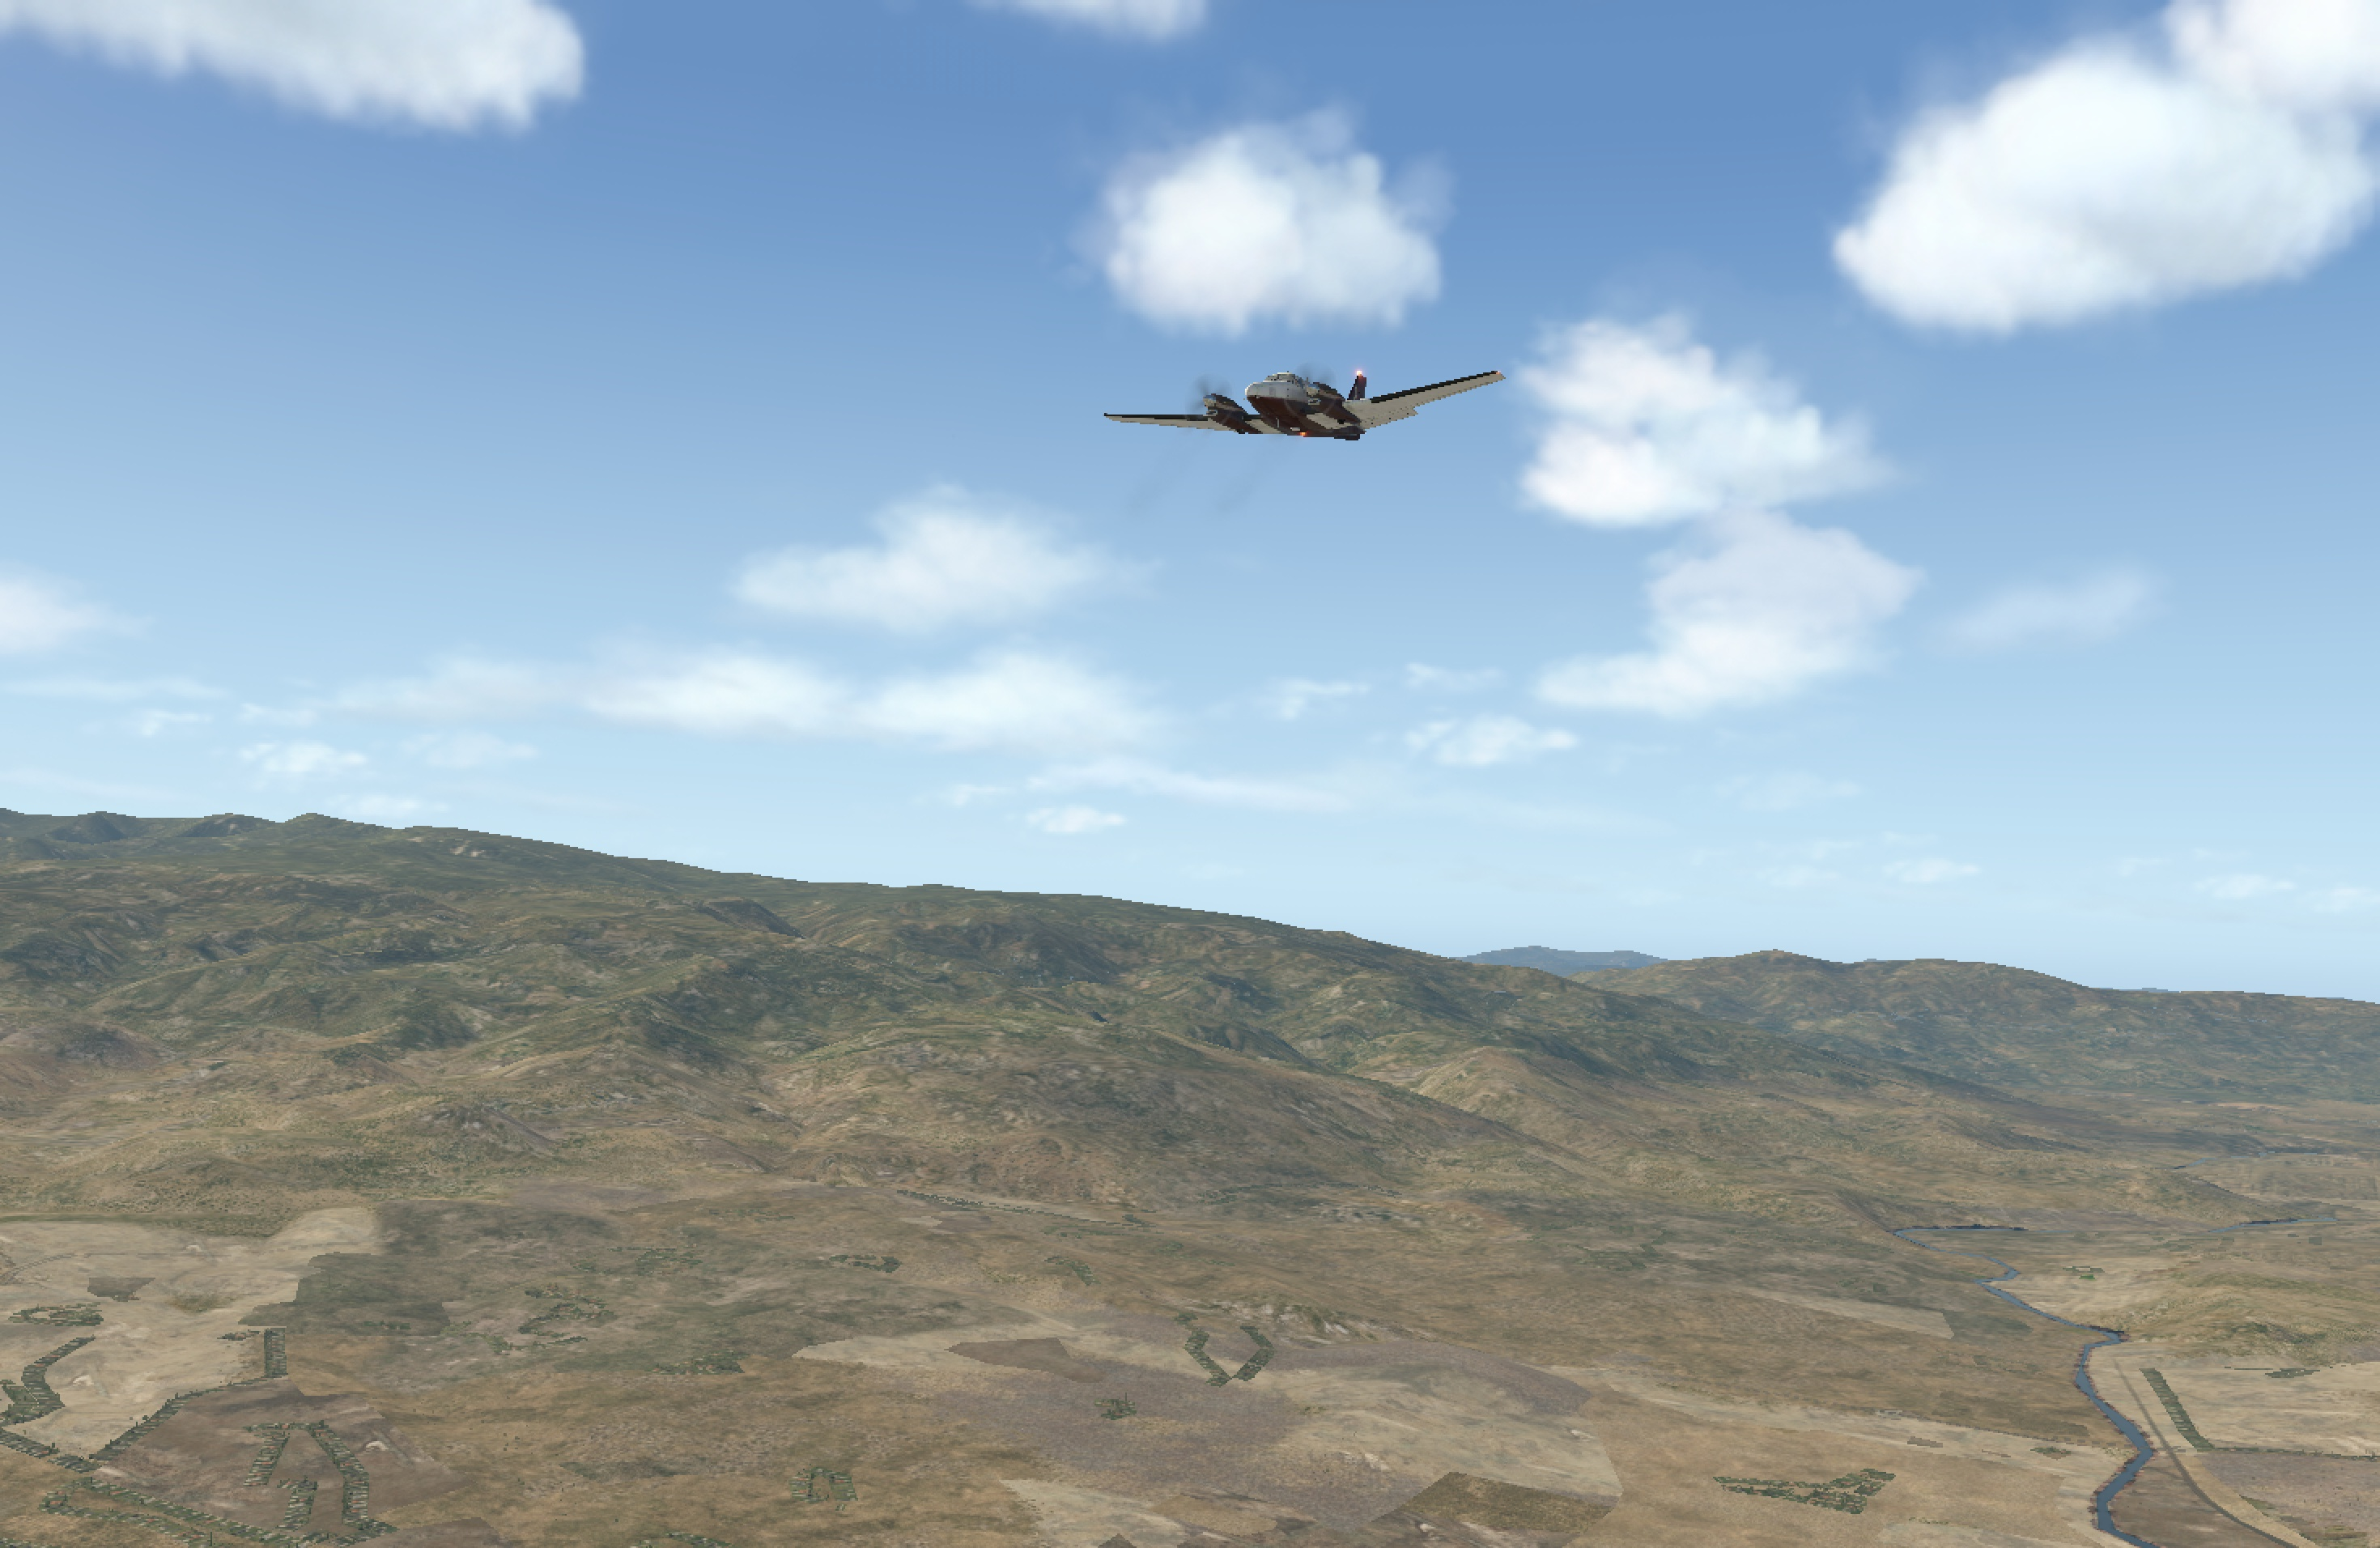aircraft: (1074, 340, 1506, 503)
